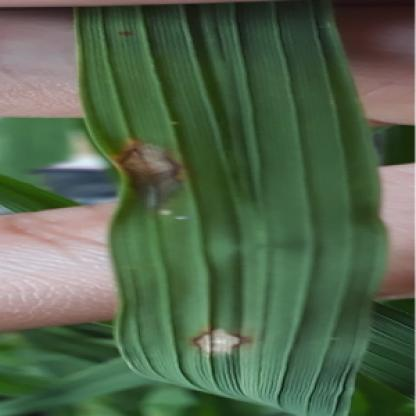Rice blast: (116, 132, 184, 211), (181, 312, 249, 376)
